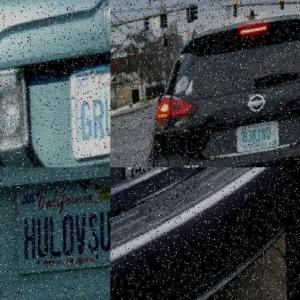Plate: (12, 173, 110, 281), (69, 55, 111, 161), (238, 122, 282, 155)
